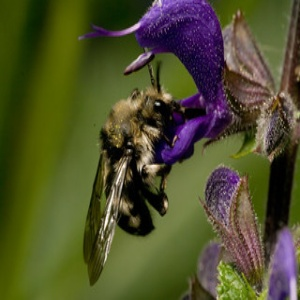bee: (80, 69, 197, 289)
